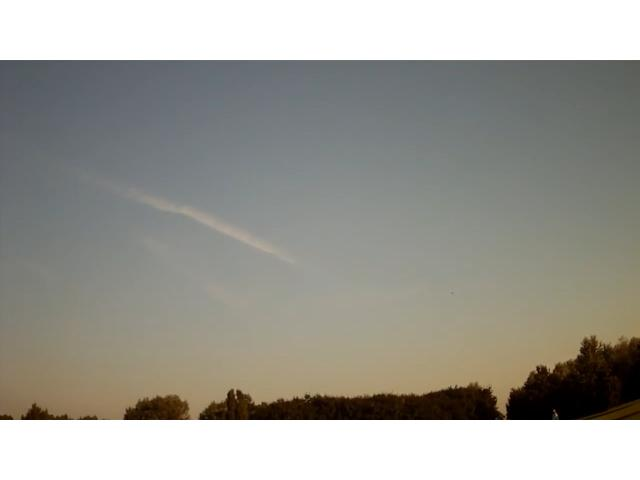Anti-Drone: (446, 287, 458, 301)
